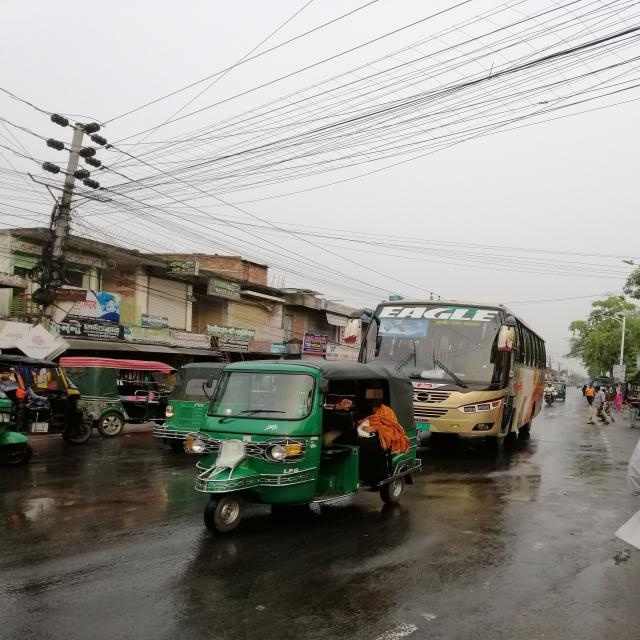Bus: (369, 295, 550, 443)
CNG: (195, 359, 424, 530)
Easybike: (68, 355, 191, 435)
